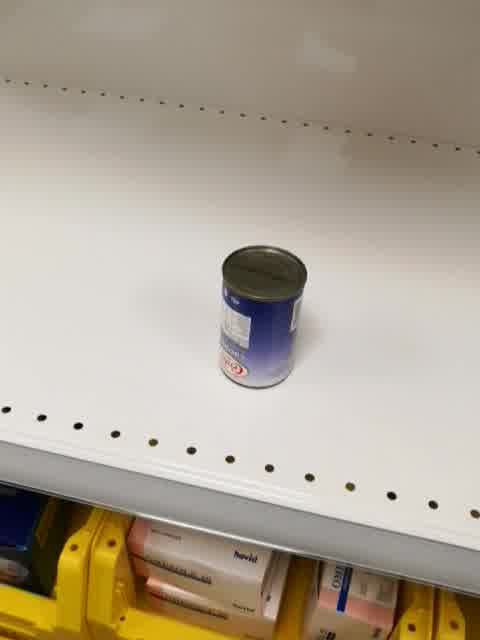sardine: (219, 244, 308, 389)
